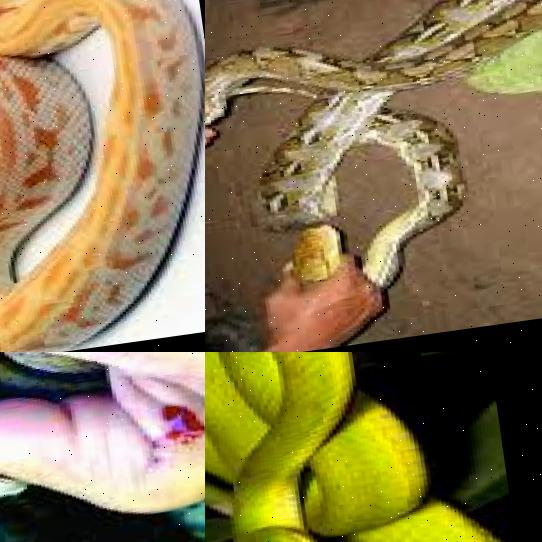snake: (205, 0, 542, 327), (0, 0, 205, 352), (205, 352, 542, 542), (0, 352, 149, 542)
